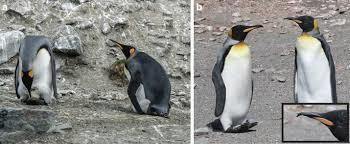king: (203, 16, 266, 144), (96, 28, 179, 124), (277, 7, 348, 110), (2, 26, 69, 116)
